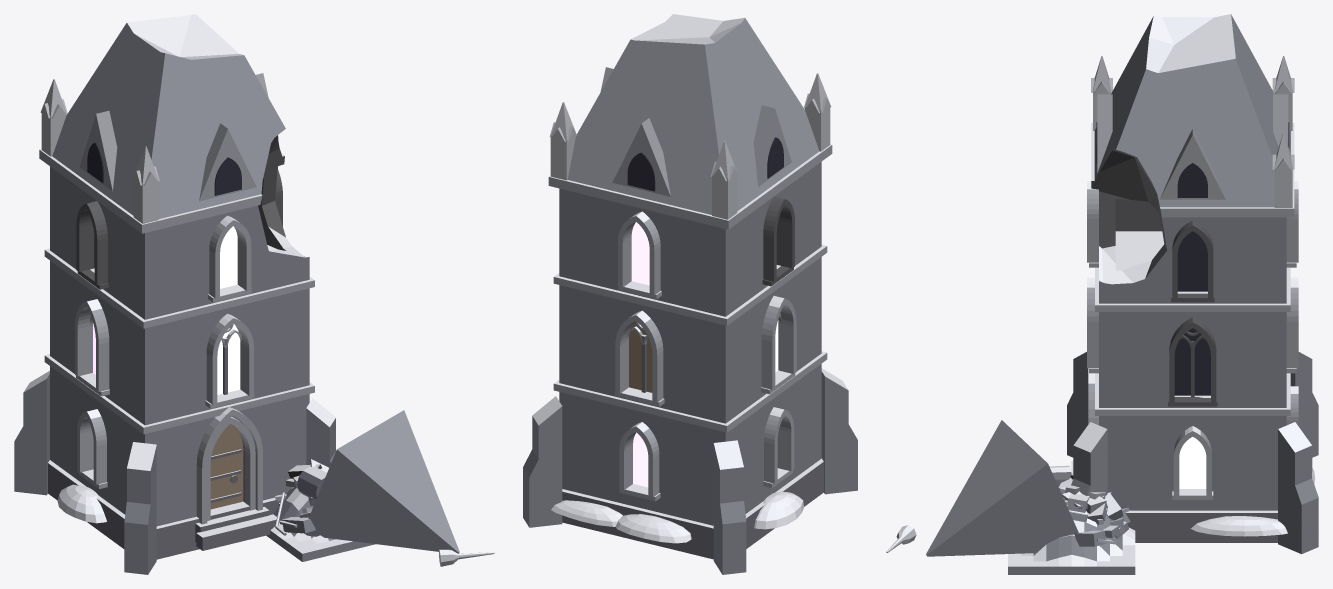
The model's file is AR_Casa_Torre_Quebrada.fbx.
3 views of the same model, side by side, from view 1: azimuth 30°, elevation 25°; view 2: azimuth 150°, elevation 25°; view 3: azimuth 270°, elevation 25° (orthographic). The views are drawn at different scales.
Visible parts, largest first — view 1: AR_Casa_Torre_Quebrada; view 2: AR_Casa_Torre_Quebrada; view 3: AR_Casa_Torre_Quebrada.
Part boxes in pixels (left/top/right/bottom): AR_Casa_Torre_Quebrada: left=14, top=14, right=494, bottom=574; AR_Casa_Torre_Quebrada: left=523, top=14, right=857, bottom=574; AR_Casa_Torre_Quebrada: left=886, top=14, right=1318, bottom=574.
Size of the model in its own units: 10.26 by 17.16 by 14.29.
